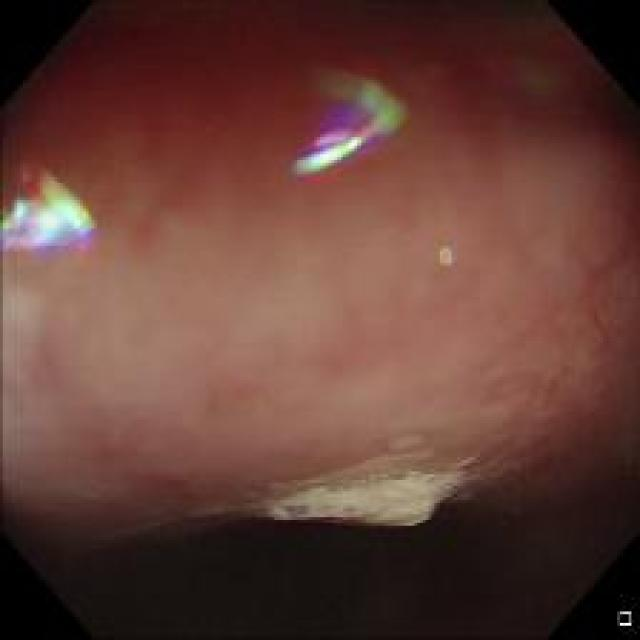blur: (6, 275, 579, 481)
color misalignment: (285, 71, 408, 185), (2, 171, 96, 262), (194, 508, 402, 532), (486, 48, 560, 99), (426, 238, 462, 274)
contrast: (62, 498, 614, 638)
